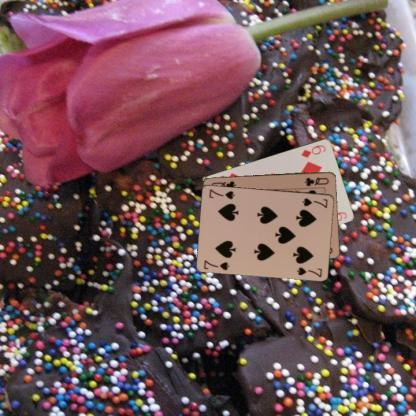6d: (298, 142, 328, 159)
7s: (300, 195, 329, 209), (202, 257, 231, 271)
Qc: (302, 174, 330, 188)
